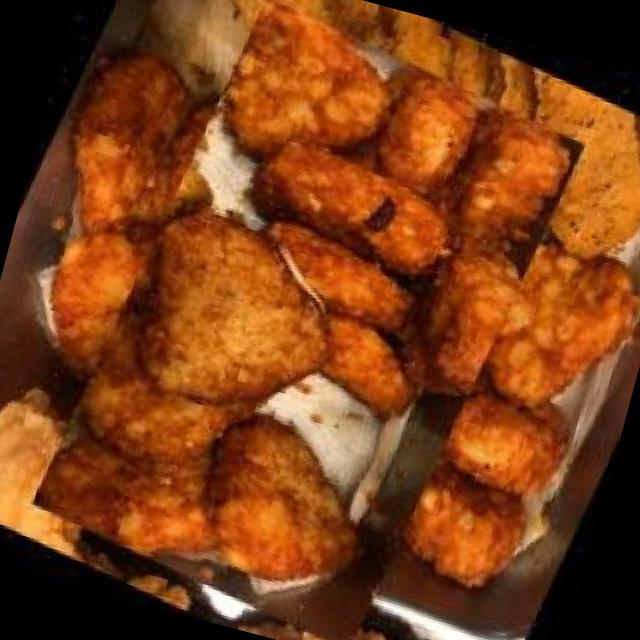triangle_hash_brown: (0, 2, 630, 640)
